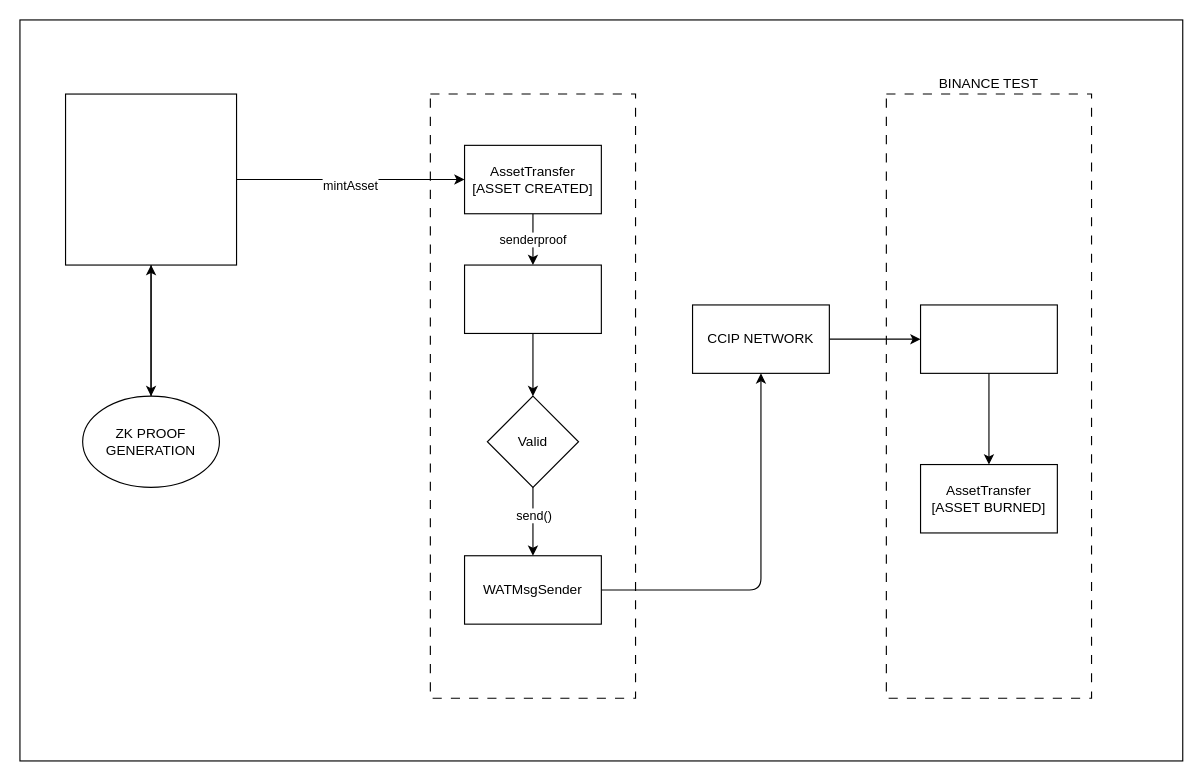
The diagram is 1203 pixels wide and 781 high, and some of its shapes have lost their labels. The shapes that lost their labels are listed below. From the top down, each one's box as (x1, y1, x2, y2) in pixels, then its label:
(64, 93, 237, 265): ORG1
(463, 264, 601, 333): SendVerifier
(919, 304, 1057, 373): WATMsgReceiver
(429, 93, 636, 698): POLYGON MUMBAI
